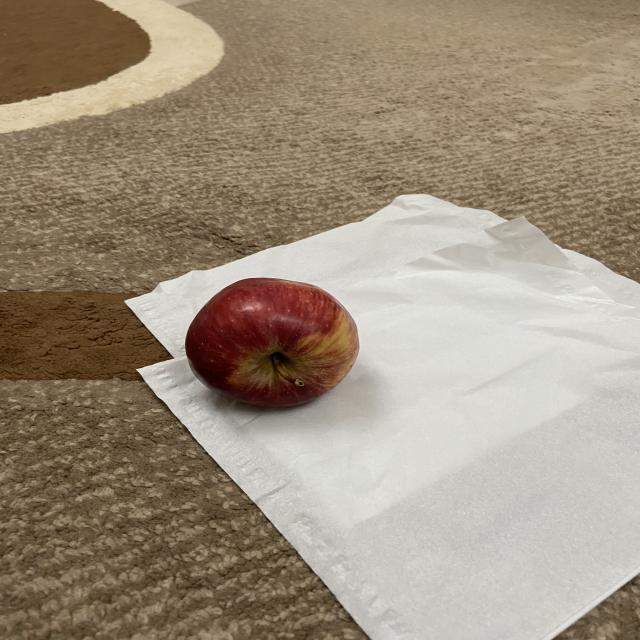apple: (184, 273, 364, 416)
